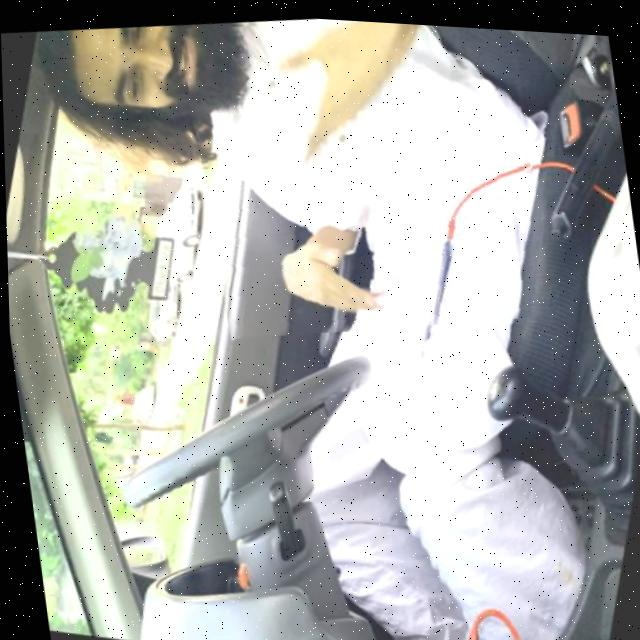no-seatbelt: (179, 8, 552, 348)
